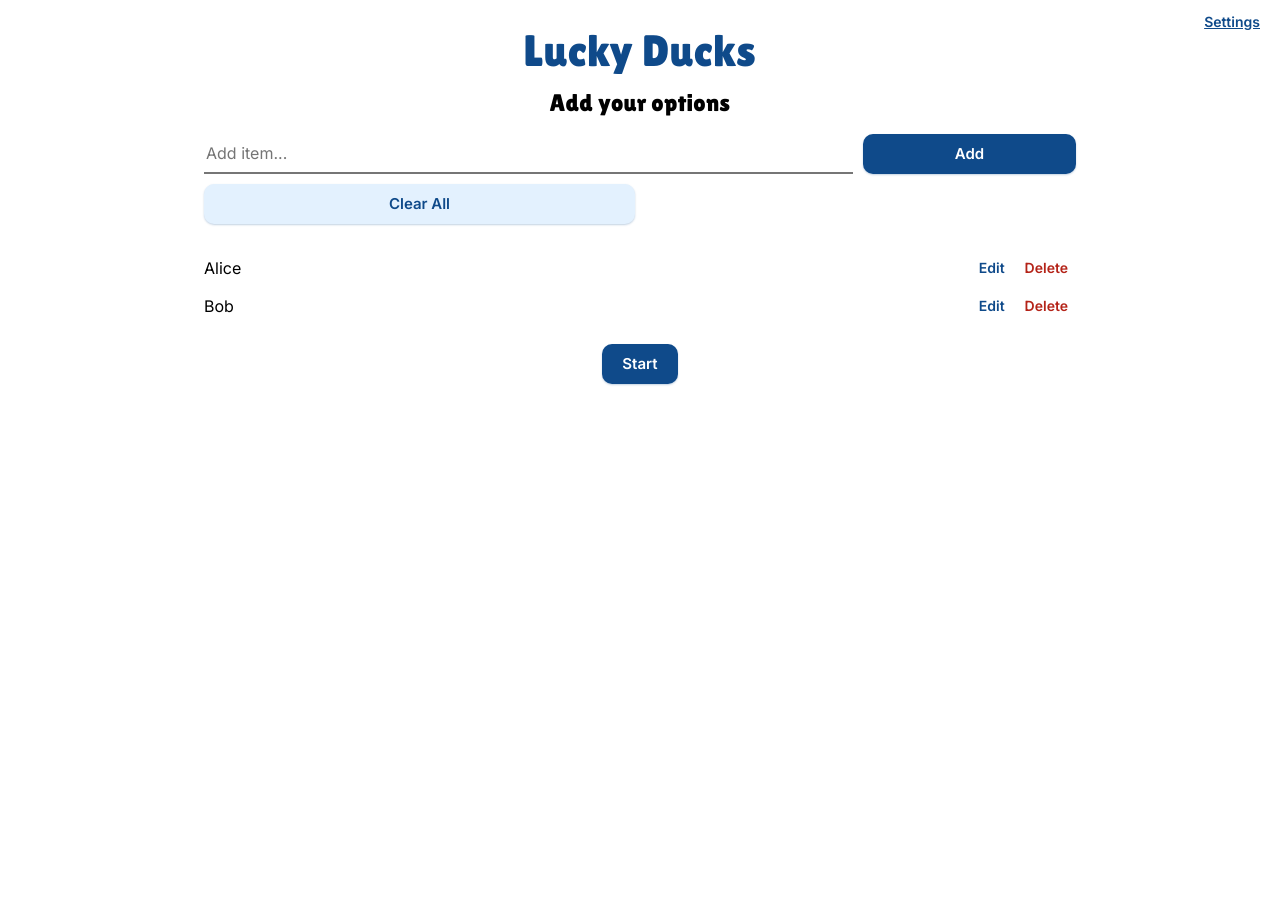
Scenario: App › confirms a reshuffle on the button and in the live region
This screenshot has width=1280, height=900.
Click the button "Start" at {"x": 640, "y": 364}, box [602, 344, 678, 384]
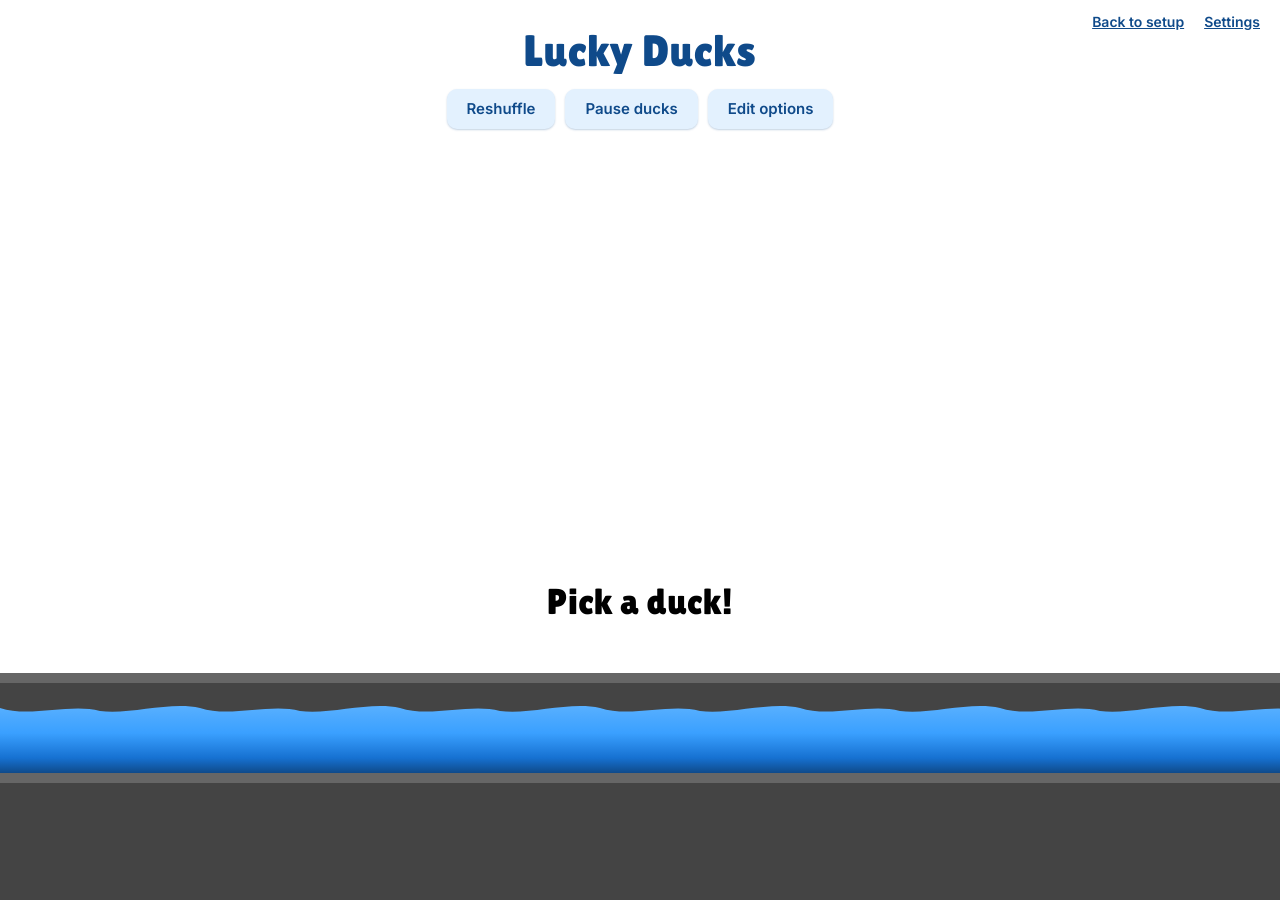
Click the button "Reshuffle" at {"x": 501, "y": 110}, box [446, 90, 555, 130]
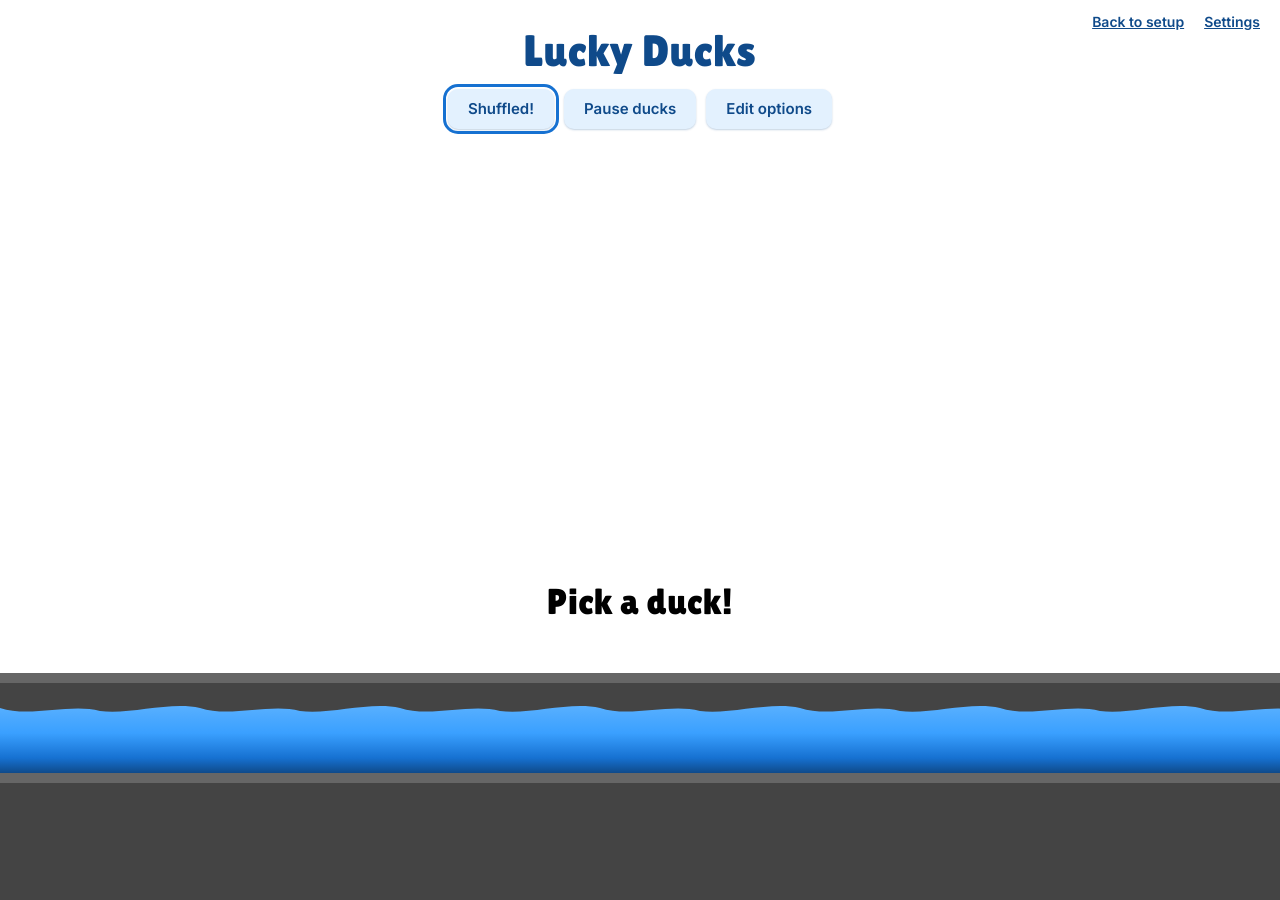
Expected: the button "Shuffled!" is shown, [448, 90, 554, 130]
